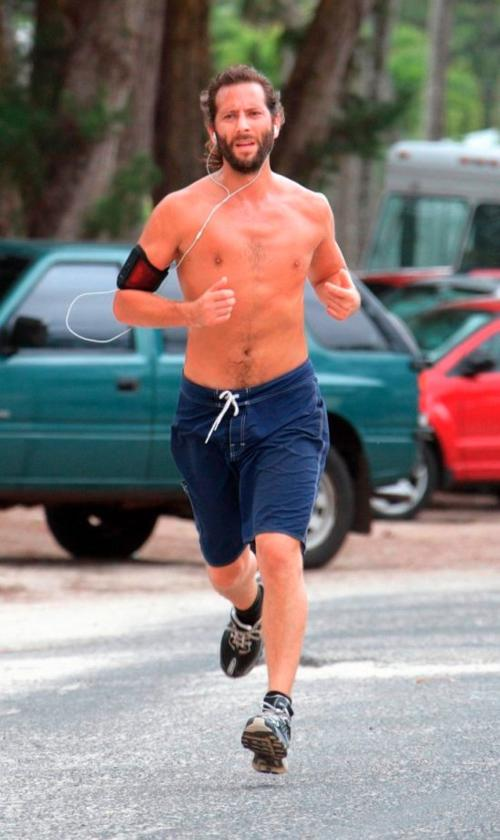person: (113, 68, 362, 785)
